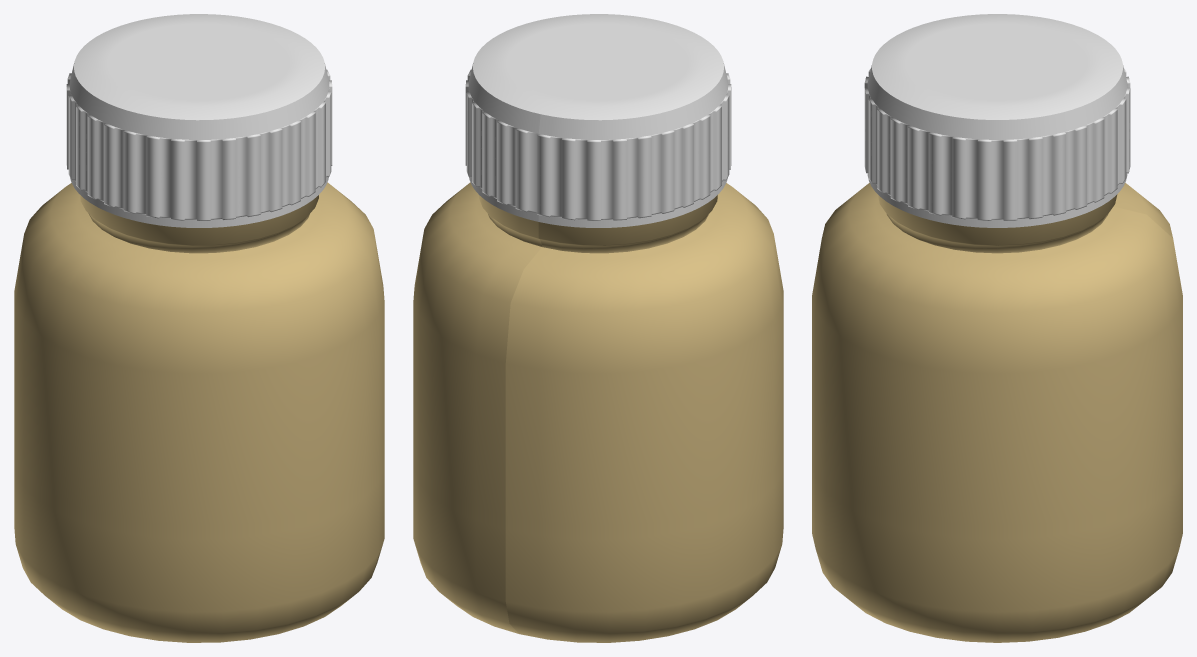
Rendered from pill_bottle.fbx.
3 views of the same model, side by side, from view 1: azimuth 30°, elevation 25°; view 2: azimuth 150°, elevation 25°; view 3: azimuth 270°, elevation 25° (orthographic).
Visible parts, largest first — view 1: pill_bottle, pill_lid; view 2: pill_bottle, pill_lid; view 3: pill_bottle, pill_lid.
Part boxes in pixels (x1,y1,x2,y2): pill_bottle: (14,182,384,642); pill_lid: (66,14,332,227); pill_bottle: (413,182,783,642); pill_lid: (465,14,731,227); pill_bottle: (812,183,1182,642); pill_lid: (864,14,1130,227).
Size of the model in its own units: 11.04 by 17.08 by 11.04.
